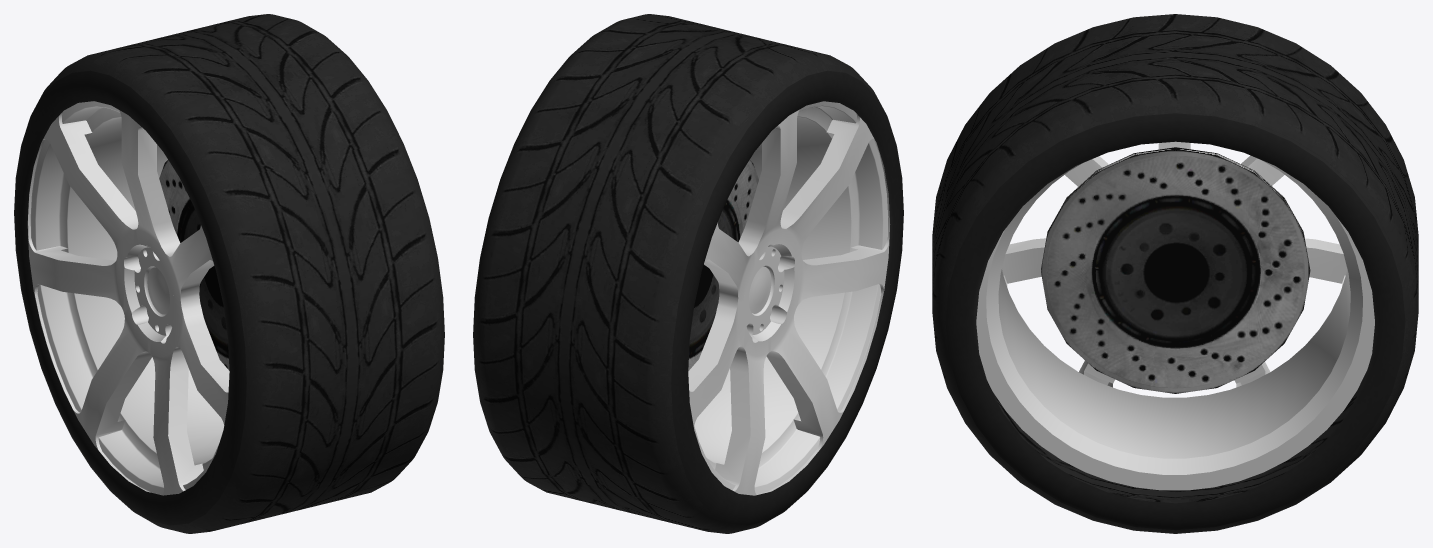
The model's file is 08_Giovanna.fbx.
3 renders of one model, left to right at view 1: azimuth 30°, elevation 25°; view 2: azimuth 150°, elevation 25°; view 3: azimuth 270°, elevation 25°, orthographic.
Visible parts, largest first — view 1: Combined No Name Object 0, Giovanna, Combined co_contisportcontact_2_vmax_wall Object 0, Rotor; view 2: Combined No Name Object 0, Giovanna, Combined co_contisportcontact_2_vmax_wall Object 0, Rotor; view 3: Combined No Name Object 0, Rotor, Giovanna, Combined co_contisportcontact_2_vmax_wall Object 0.
Boxes of the visible parts, x1,y1,x2,y2 form: Combined No Name Object 0: (14,14,444,533); Giovanna: (27,101,229,495); Combined co_contisportcontact_2_vmax_wall Object 0: (14,70,246,525); Rotor: (159,160,229,370); Combined No Name Object 0: (473,14,903,533); Giovanna: (688,101,890,495); Combined co_contisportcontact_2_vmax_wall Object 0: (671,70,903,525); Rotor: (688,160,758,370); Combined No Name Object 0: (932,14,1418,533); Rotor: (1041,147,1310,393); Giovanna: (976,141,1374,490); Combined co_contisportcontact_2_vmax_wall Object 0: (945,113,1405,530).
Bounding box in the file's own units: 0.3334 × 0.688 × 0.688.
